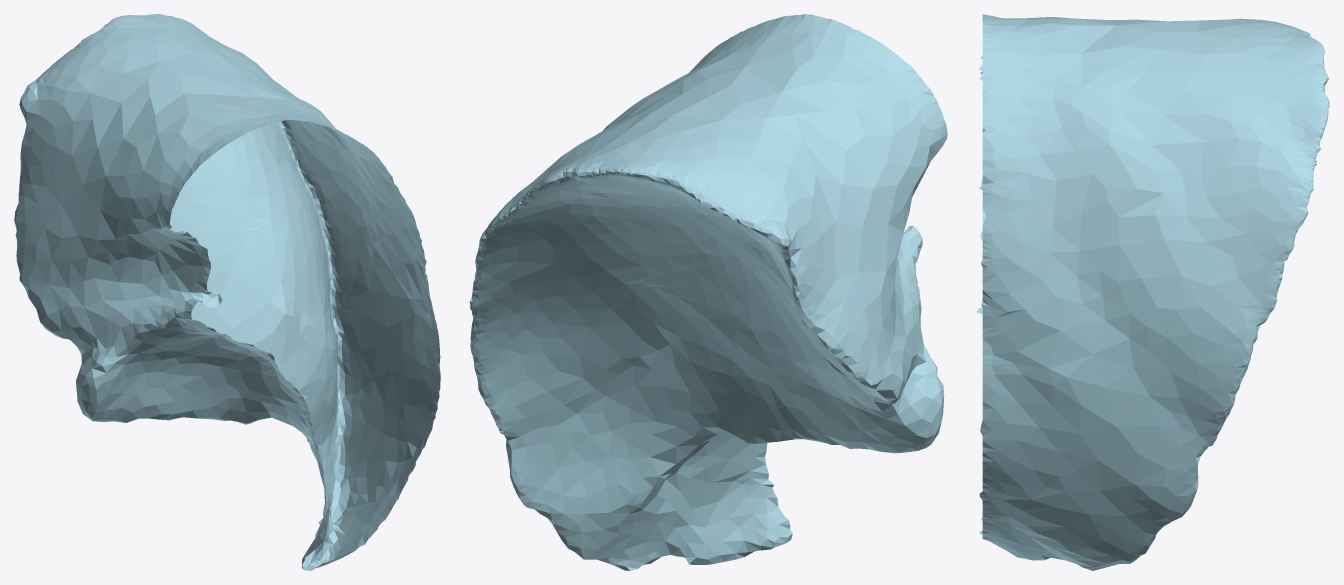
File: leftlung.obj
3 renders of one model, left to right at view 1: azimuth 30°, elevation 25°; view 2: azimuth 150°, elevation 25°; view 3: azimuth 270°, elevation 25°, orthographic. The views are drawn at different scales.
Parts seen in each view (by area): view 1: grp1; view 2: grp1; view 3: grp1.
Part boxes in pixels (bbox=[...]): grp1: bbox=[14, 14, 440, 570]; grp1: bbox=[469, 14, 947, 570]; grp1: bbox=[976, 14, 1329, 570].
Bounding box in the file's own units: 128 × 176 × 114.
